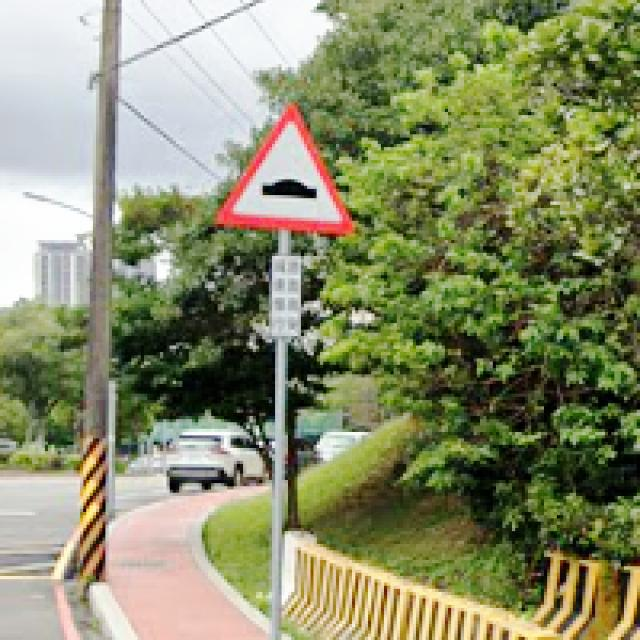hump: (218, 106, 352, 232)
